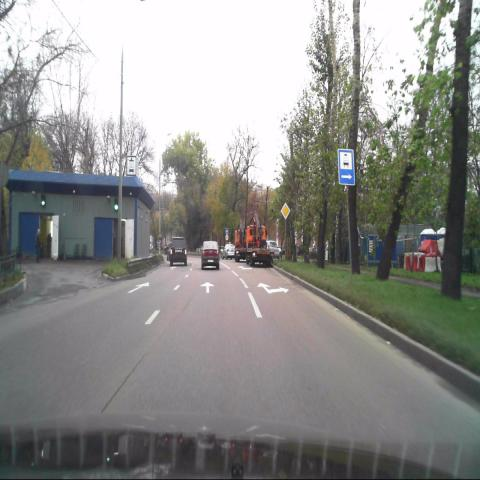7_5: (338, 147, 355, 185)
